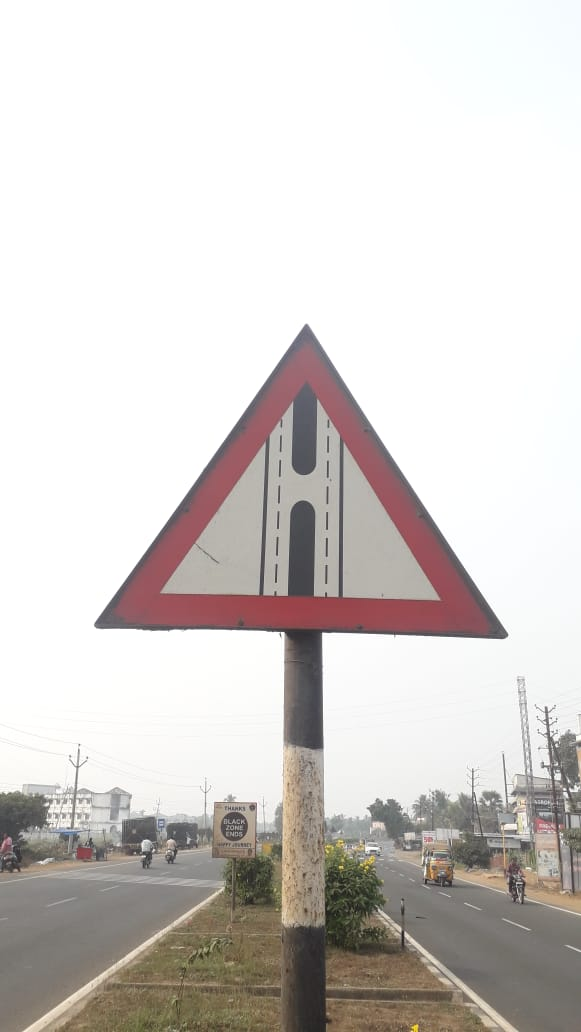highway go straight: (94, 328, 510, 672)
